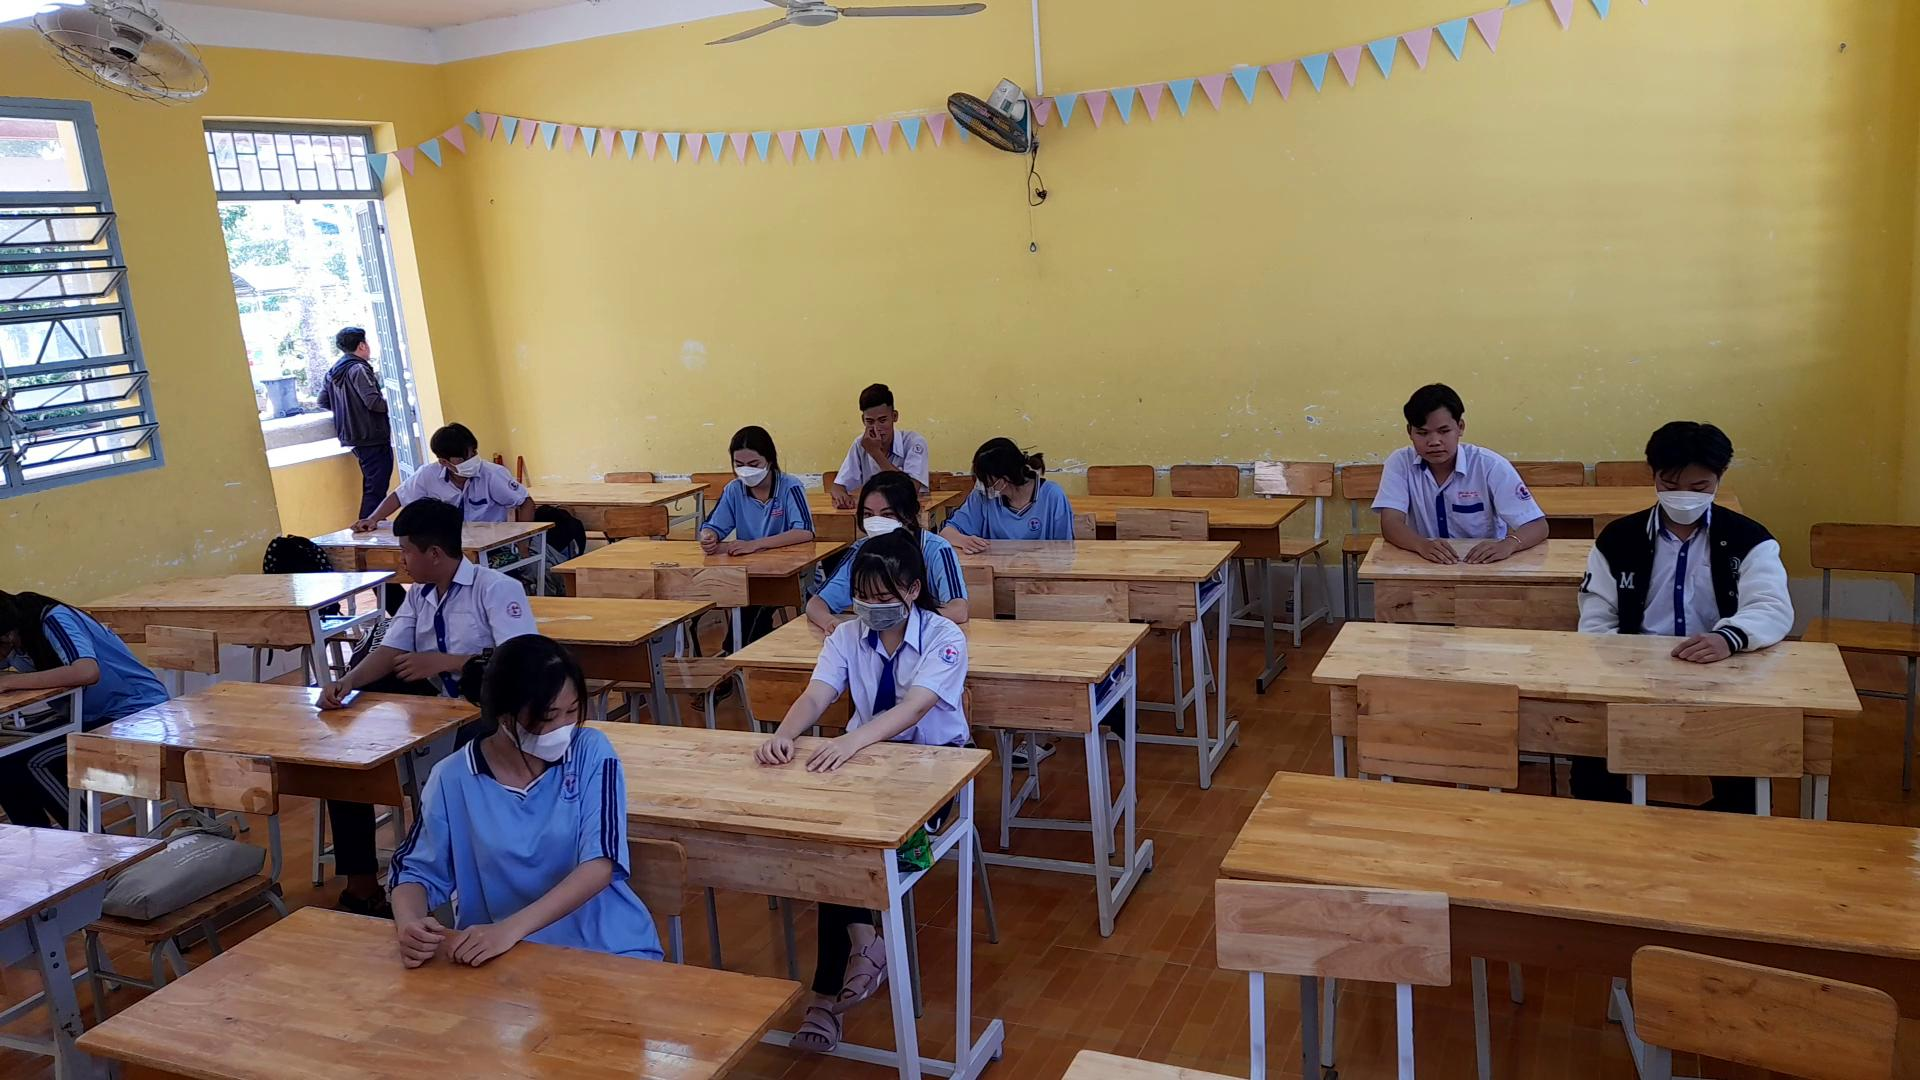Bend Over The Desk: (442, 615, 597, 775), (443, 617, 597, 778), (833, 520, 931, 642), (1638, 411, 1735, 534)
Hand Under Table: (1564, 506, 1636, 647), (1036, 475, 1075, 560)
Look Around: (369, 487, 480, 596), (953, 429, 1047, 509), (421, 417, 500, 483)
Normal: (1364, 373, 1552, 570), (688, 423, 820, 560)
